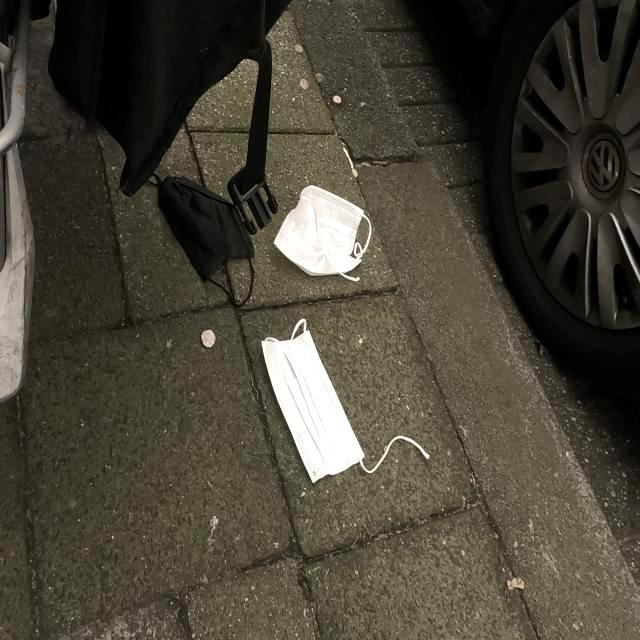Mask: (262, 324, 401, 500), (280, 175, 380, 277), (154, 170, 228, 282)
